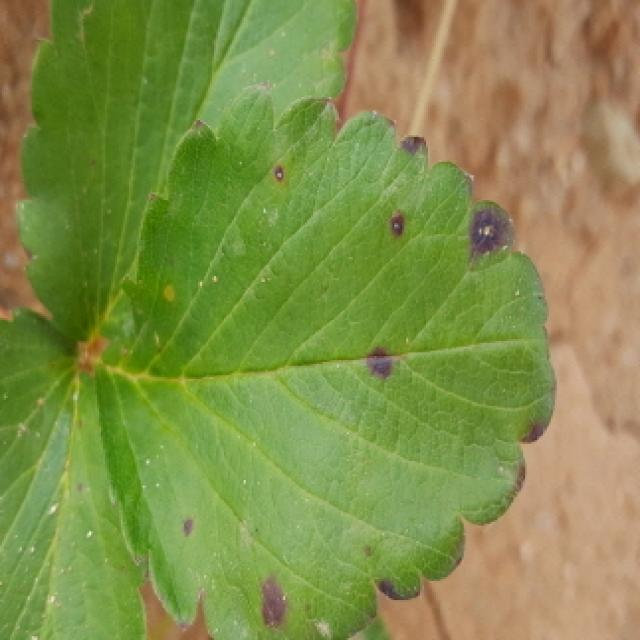Leaf Spot: (84, 86, 554, 640), (0, 308, 151, 640)
